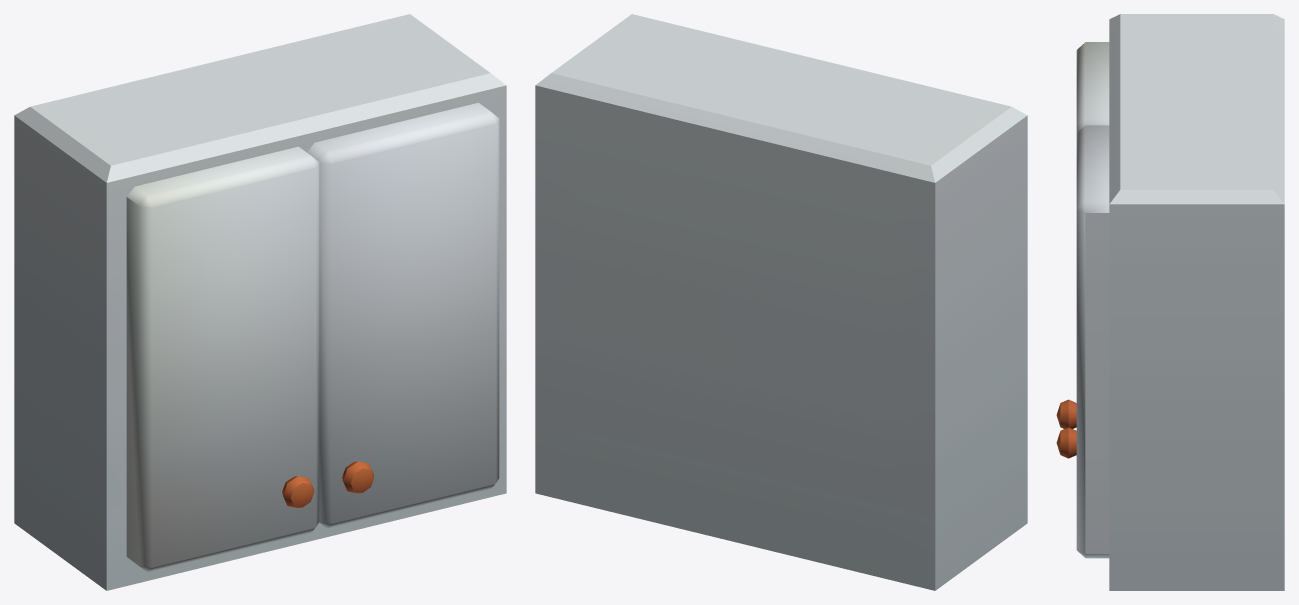
File: kay-armario-cozinha.gltf
3 renders of one model, left to right at view 1: azimuth 30°, elevation 25°; view 2: azimuth 150°, elevation 25°; view 3: azimuth 270°, elevation 25°, orthographic. The views are drawn at different scales.
Visible parts, largest first — view 1: kitchencabinet; view 2: kitchencabinet; view 3: kitchencabinet.
Part boxes in pixels (x1,y1,x2,y2): kitchencabinet: (14, 14, 506, 590); kitchencabinet: (535, 14, 1027, 590); kitchencabinet: (1056, 14, 1284, 590).
Bounding box in the file's own units: 1.3 × 1.3 × 0.6772.
Materials: 1 (1 with a texture image).
